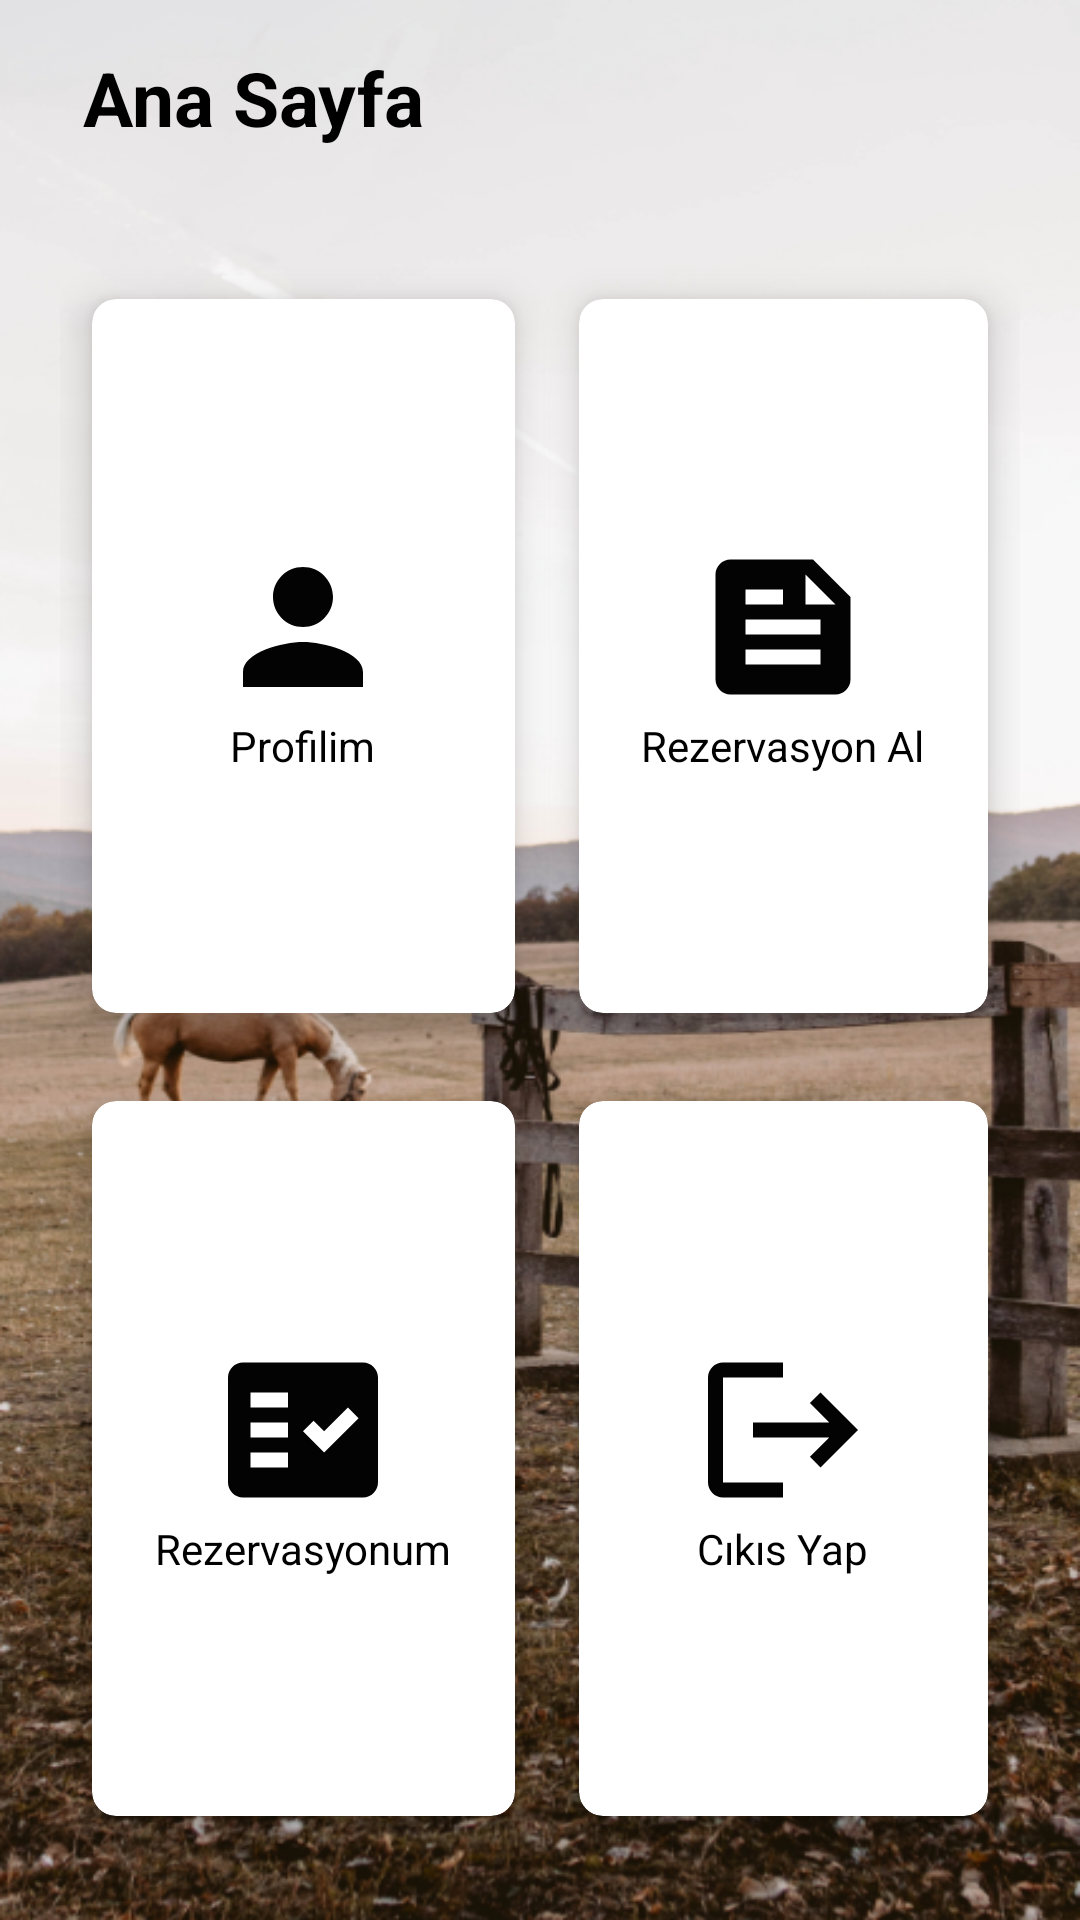

Where to tap for icons on this 1080w x 1920h app screen, as (x,y):
fact check: (303,1430)
person: (303,627)
